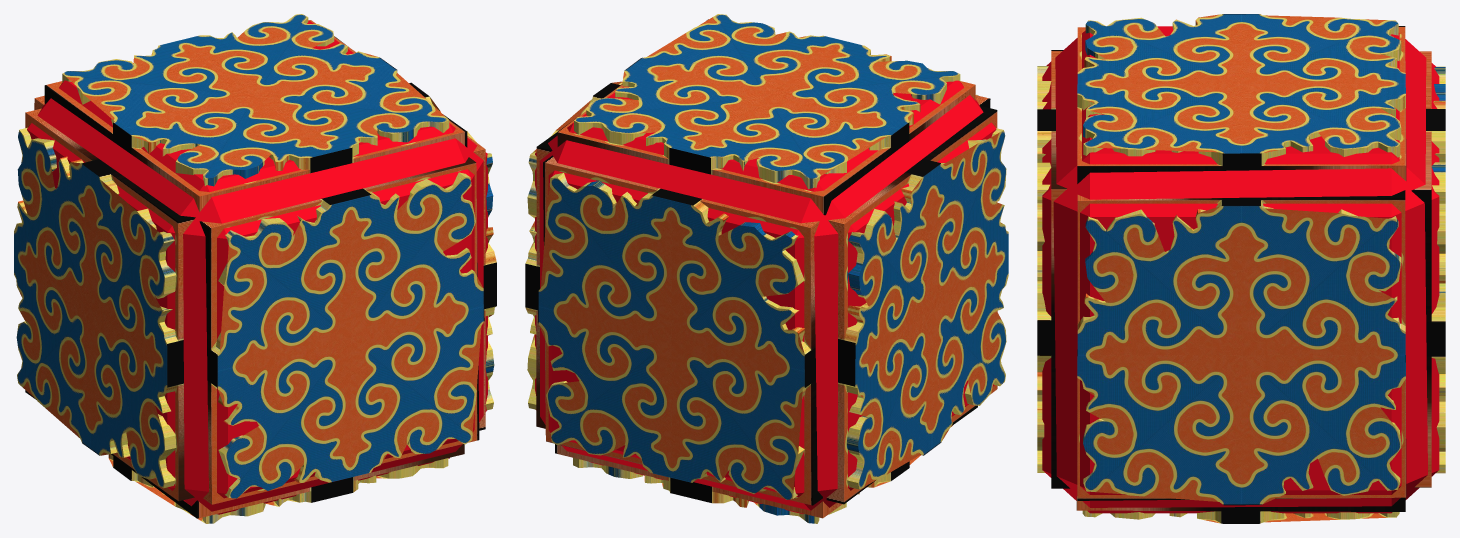
Rendered from redBox.fbx.
3 views of the same model, side by side, from view 1: azimuth 30°, elevation 25°; view 2: azimuth 150°, elevation 25°; view 3: azimuth 270°, elevation 25° (orthographic). The views are drawn at different scales.
Parts seen in each view (by area): view 1: Kyrgyz-Textile.001, Kyrgyz-Textile.005, Kyrgyz-Textile.003, Cube, Kyrgyz-Textile.002, Kyrgyz-Textile.004; view 2: Kyrgyz-Textile, Kyrgyz-Textile.005, Kyrgyz-Textile.003, Cube, Kyrgyz-Textile.002, Kyrgyz-Textile.004; view 3: Kyrgyz-Textile.004, Cube, Kyrgyz-Textile.003, Kyrgyz-Textile, Kyrgyz-Textile.001, Kyrgyz-Textile.002.
Part boxes in pixels (x1=…): Kyrgyz-Textile.001: x1=199, y1=157, x2=484, y2=504; Kyrgyz-Textile.005: x1=14, y1=108, x2=195, y2=501; Kyrgyz-Textile.003: x1=44, y1=14, x2=467, y2=212; Cube: x1=27, y1=20, x2=487, y2=514; Kyrgyz-Textile.002: x1=108, y1=444, x2=464, y2=523; Kyrgyz-Textile.004: x1=334, y1=36, x2=496, y2=430; Kyrgyz-Textile: x1=537, y1=155, x2=822, y2=505; Kyrgyz-Textile.005: x1=826, y1=106, x2=1008, y2=504; Kyrgyz-Textile.003: x1=557, y1=14, x2=975, y2=215; Cube: x1=535, y1=80, x2=996, y2=514; Kyrgyz-Textile.002: x1=555, y1=405, x2=977, y2=523; Kyrgyz-Textile.004: x1=525, y1=81, x2=622, y2=428; Kyrgyz-Textile.004: x1=1077, y1=190, x2=1406, y2=505; Cube: x1=1042, y1=26, x2=1439, y2=513; Kyrgyz-Textile.003: x1=1077, y1=14, x2=1406, y2=183; Kyrgyz-Textile: x1=1411, y1=51, x2=1445, y2=487; Kyrgyz-Textile.001: x1=1037, y1=50, x2=1069, y2=488; Kyrgyz-Textile.002: x1=1076, y1=496, x2=1405, y2=523.
Bounding box in the file's own units: 236 × 236 × 236.
